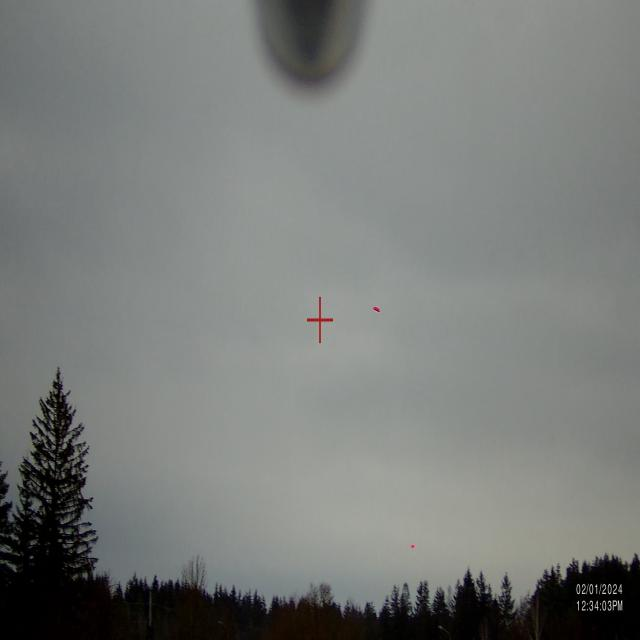entire: (369, 299, 384, 323)
